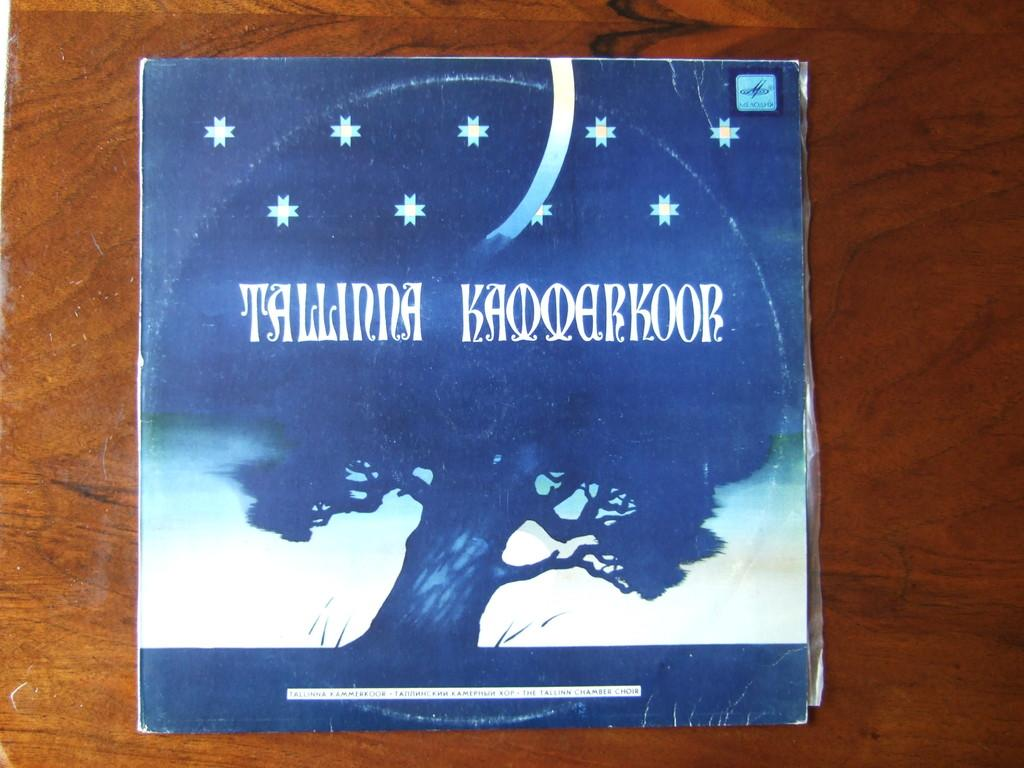Book: (122, 0, 881, 768)
